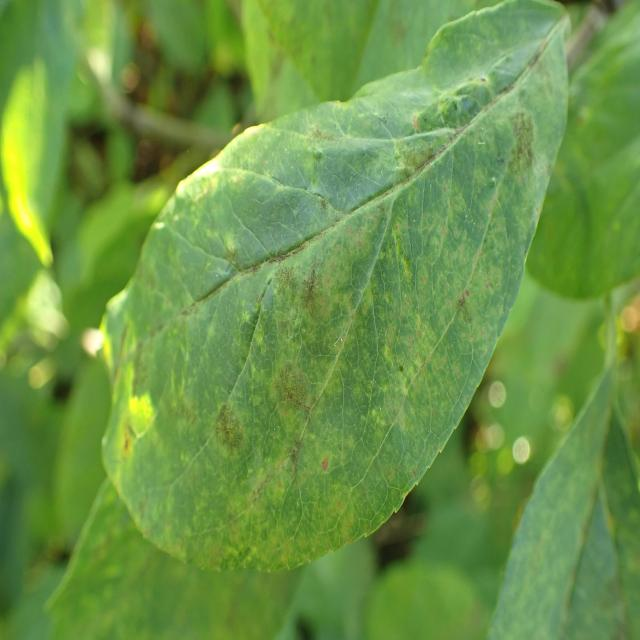scab: (82, 22, 572, 584)
